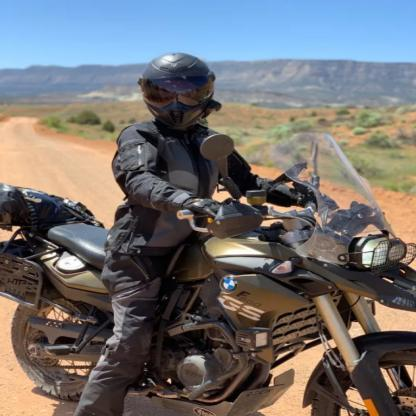helmet: (140, 52, 216, 130)
